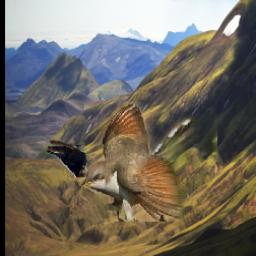Cuckoo: (79, 102, 218, 222)
Swallow: (46, 140, 90, 177)
